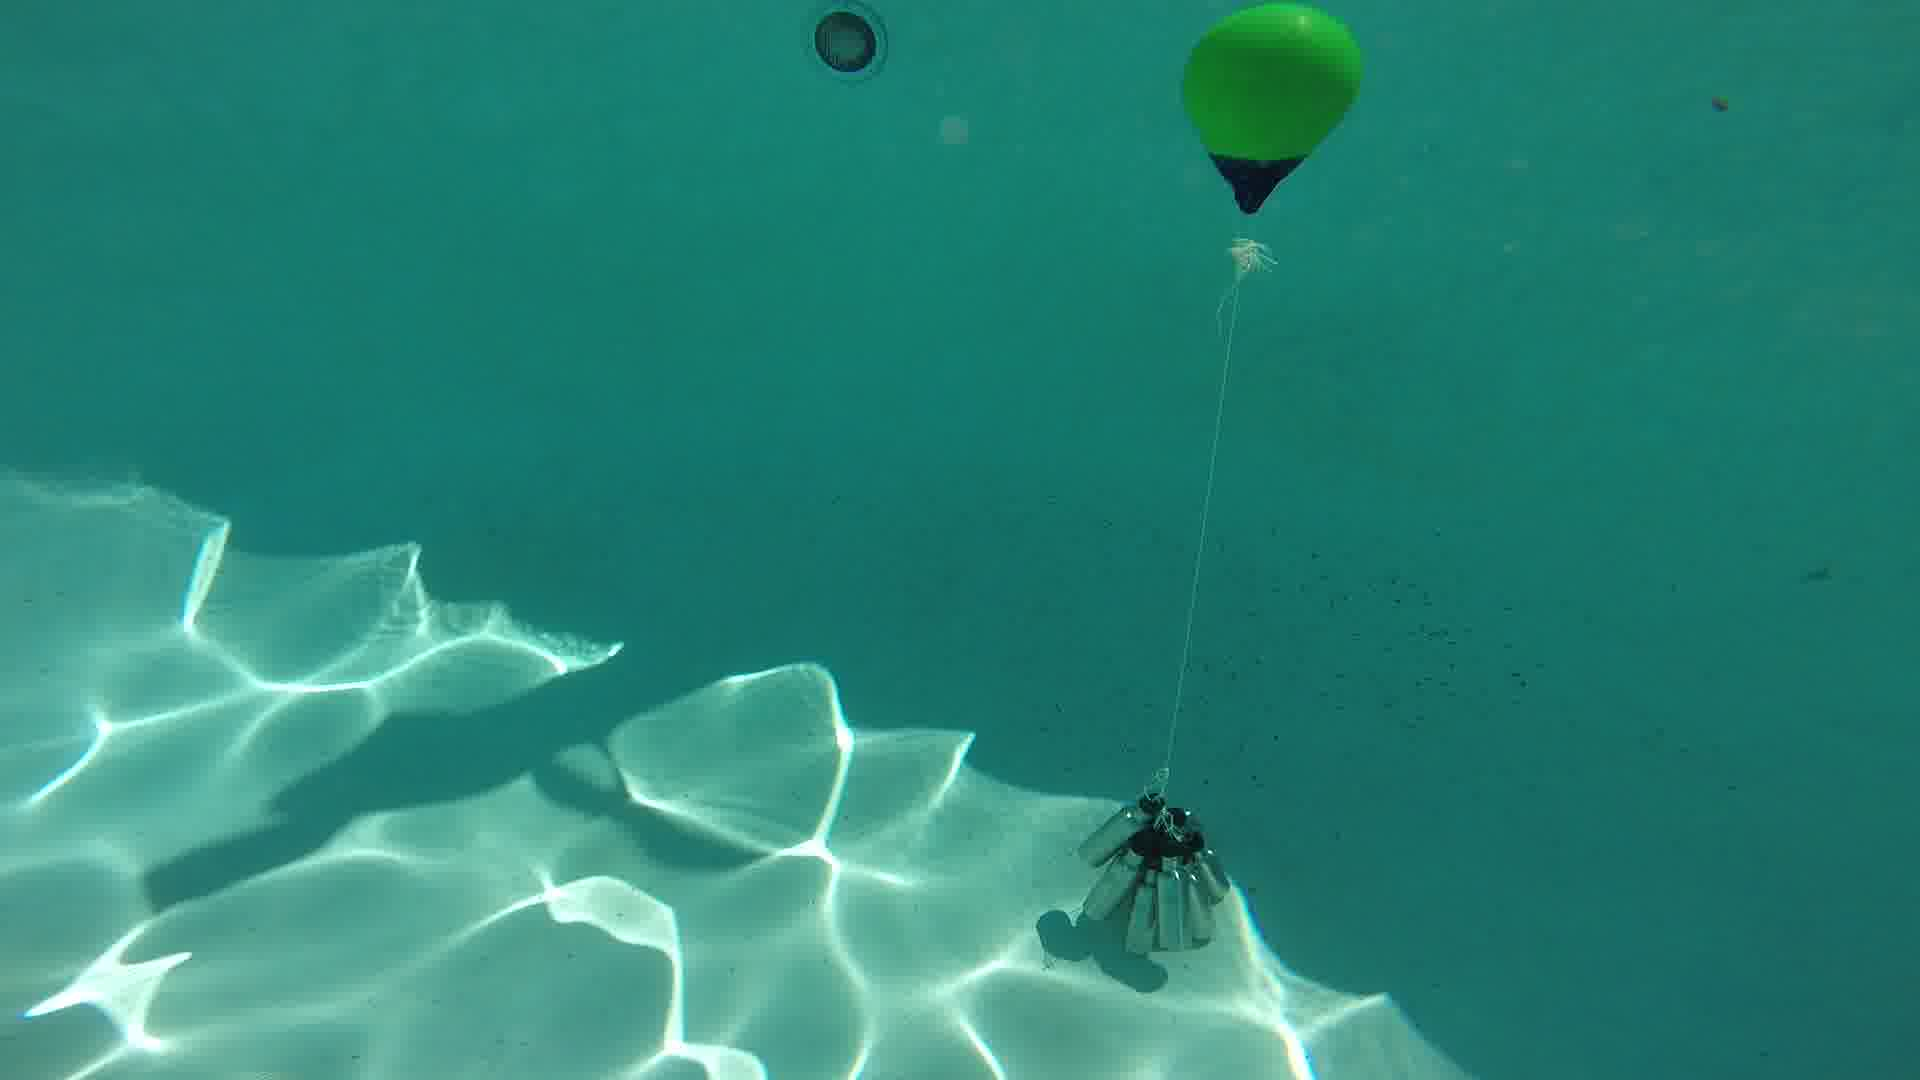yellow_buoy: (1179, 3, 1365, 222)
